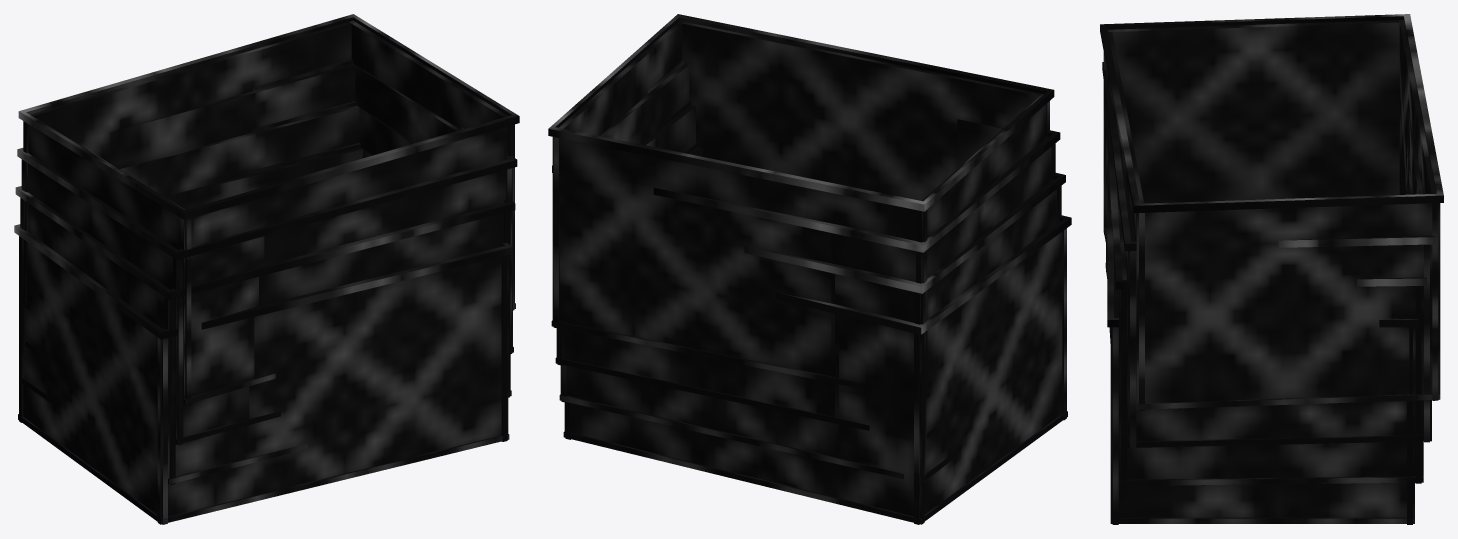
Rendered from basket_stack_lod1_web.glb.
3 views of the same model, side by side, from view 1: azimuth 30°, elevation 25°; view 2: azimuth 150°, elevation 25°; view 3: azimuth 270°, elevation 25° (orthographic). The views are drawn at different scales.
Visible parts, largest first — view 1: BasketStack_Body; view 2: BasketStack_Body; view 3: BasketStack_Body.
Part boxes in pixels (x1,y1,x2,y2): BasketStack_Body: [14, 14, 519, 524]; BasketStack_Body: [548, 14, 1071, 524]; BasketStack_Body: [1100, 14, 1443, 524].
Size of the model in its own units: 0.448 by 0.359 by 0.3389.
Materials: 1 (1 with a texture image).
